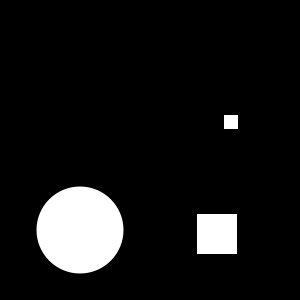circle: (197, 214, 237, 254), (224, 115, 238, 129)
rectangle: (36, 186, 123, 274)
triangle: (208, 229, 230, 251)
